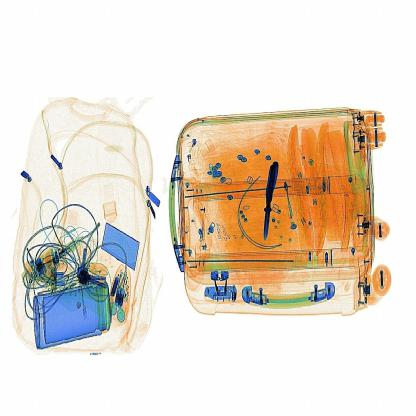gun: (253, 155, 284, 243)
